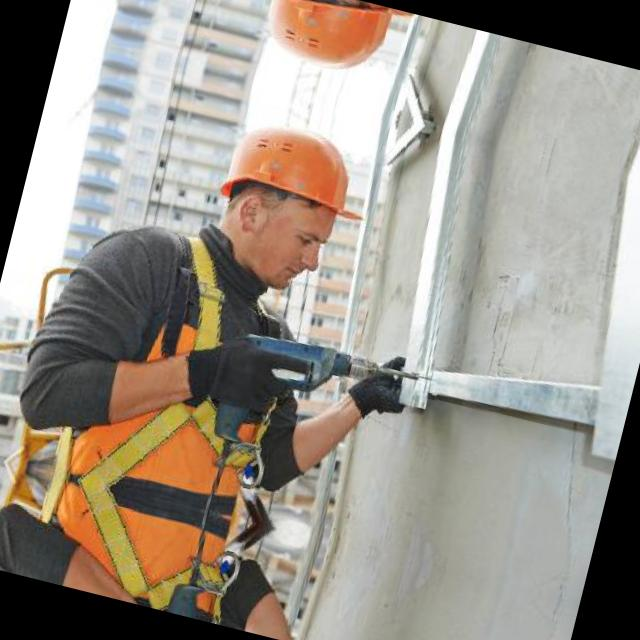helmet: (182, 90, 386, 313), (234, 0, 416, 105)
